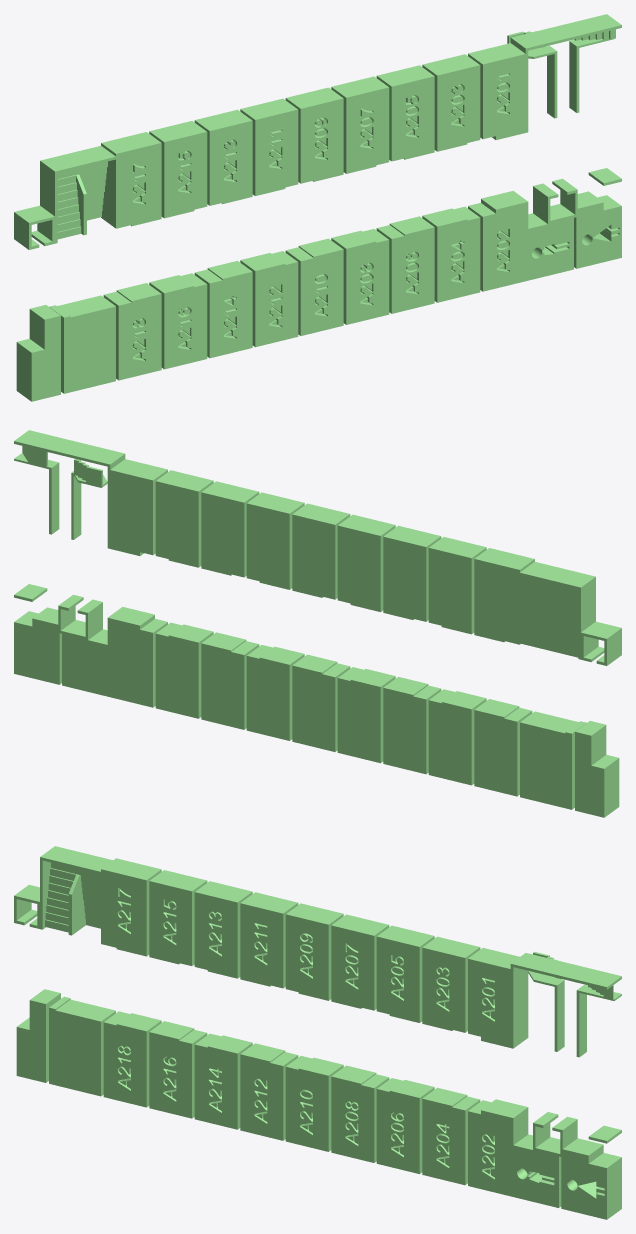
File: Edificio A - piso 2.obj
3 views of the same model, one above another, from view 1: azimuth 30°, elevation 25°; view 2: azimuth 150°, elevation 25°; view 3: azimuth 330°, elevation 25° (orthographic).
Visible parts, largest first — view 1: Cuerpo8, Cuerpo2, Cuerpo18, Cuerpo13, Cuerpo12, Cuerpo14, Cuerpo15, Cuerpo3, Cuerpo16, Cuerpo10, Cuerpo9, Cuerpo17 (+17 smaller); view 2: Cuerpo8, Cuerpo2, Cuerpo18, Cuerpo13, Cuerpo12, Cuerpo14, Cuerpo15, Cuerpo3, Cuerpo16, Cuerpo10, Cuerpo9, Cuerpo17 (+17 smaller); view 3: Cuerpo8, Cuerpo2, Cuerpo7, Cuerpo19, Cuerpo11, Cuerpo29, Cuerpo1, Cuerpo5, Cuerpo9, Cuerpo17, Cuerpo3, Cuerpo15 (+17 smaller).
Boxes of the visible parts, box(x1,y1,x2,y2) form: Cuerpo8: box(40, 142, 118, 243); Cuerpo2: box(49, 295, 115, 393); Cuerpo18: box(149, 121, 207, 218); Cuerpo13: box(422, 54, 480, 151); Cuerpo12: box(331, 76, 389, 173); Cuerpo14: box(240, 98, 298, 195); Cuerpo15: box(422, 206, 480, 302); Cuerpo3: box(149, 273, 207, 369); Cuerpo16: box(240, 251, 298, 347); Cuerpo10: box(331, 229, 389, 324); Cuerpo9: box(285, 238, 343, 335); Cuerpo17: box(376, 216, 434, 313); Cuerpo8: box(517, 558, 595, 659); Cuerpo2: box(520, 711, 586, 809); Cuerpo18: box(428, 537, 486, 634); Cuerpo13: box(155, 470, 213, 567); Cuerpo12: box(246, 492, 304, 589); Cuerpo14: box(337, 514, 395, 611); Cuerpo15: box(155, 622, 213, 718); Cuerpo3: box(428, 689, 486, 785); Cuerpo16: box(337, 667, 395, 763); Cuerpo10: box(246, 645, 304, 740); Cuerpo9: box(292, 654, 350, 751); Cuerpo17: box(201, 632, 259, 729); Cuerpo8: box(40, 846, 118, 944); Cuerpo2: box(49, 996, 115, 1096); Cuerpo7: box(285, 903, 343, 1000); Cuerpo19: box(376, 925, 434, 1022); Cuerpo11: box(194, 881, 252, 978); Cuerpo29: box(103, 859, 161, 956); Cuerpo1: box(103, 1011, 161, 1107); Cuerpo5: box(194, 1033, 252, 1129); Cuerpo9: box(285, 1056, 343, 1151); Cuerpo17: box(376, 1078, 434, 1174); Cuerpo3: box(149, 1021, 207, 1118); Cuerpo15: box(422, 1087, 480, 1185).
Size of the model in its own units: 45.6 by 17.1 by 2.8.
